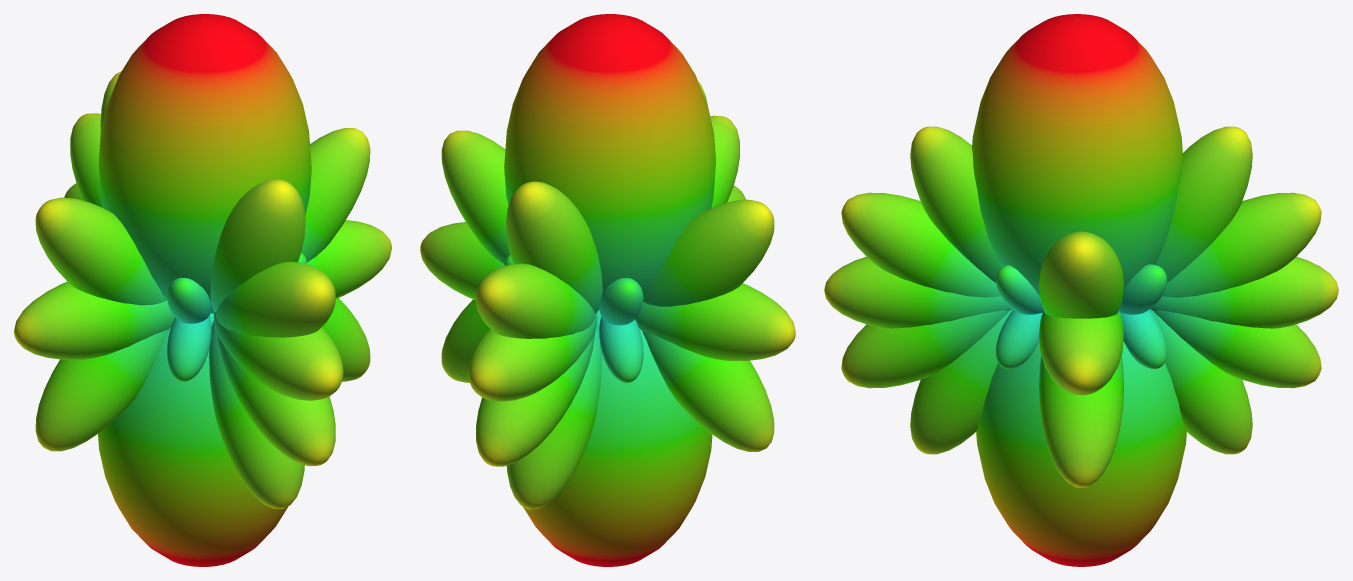
Rendered from radius_final.glb.
3 renders of one model, left to right at view 1: azimuth 30°, elevation 25°; view 2: azimuth 150°, elevation 25°; view 3: azimuth 270°, elevation 25°, orthographic.
Parts seen in each view (by area): view 1: 球体.002, 球体, 球体.016, 球体.009, 球体.013, 球体.011, 球体.010, 球体.012, 球体.008, 球体.007, 球体.015, 球体.014 (+4 smaller); view 2: 球体.002, 球体, 球体.016, 球体.009, 球体.013, 球体.001, 球体.003, 球体.004, 球体.005, 球体.015, 球体.006, 球体.014 (+4 smaller); view 3: 球体.002, 球体, 球体.003, 球体.010, 球体.001, 球体.011, 球体.006, 球体.007, 球体.017, 球体.004, 球体.012, 球体.005 (+7 smaller).
Boxes of the visible parts, bbox=[...] form: 球体.002: bbox=[98, 14, 311, 313]; 球体: bbox=[98, 313, 288, 566]; 球体.016: bbox=[35, 197, 166, 305]; 球体.009: bbox=[35, 329, 168, 451]; 球体.013: bbox=[14, 281, 175, 359]; 球体.011: bbox=[210, 179, 305, 312]; 球体.010: bbox=[216, 261, 335, 337]; 球体.012: bbox=[213, 312, 343, 400]; 球体.008: bbox=[209, 320, 304, 508]; 球体.007: bbox=[216, 332, 335, 466]; 球体.015: bbox=[301, 128, 370, 262]; 球体.014: bbox=[307, 220, 391, 298]; 球体.002: bbox=[504, 14, 715, 310]; 球体: bbox=[523, 310, 712, 566]; 球体.016: bbox=[643, 199, 774, 306]; 球体.009: bbox=[642, 331, 774, 451]; 球体.013: bbox=[635, 283, 795, 360]; 球体.001: bbox=[506, 181, 602, 313]; 球体.003: bbox=[476, 263, 594, 338]; 球体.004: bbox=[468, 313, 597, 401]; 球体.005: bbox=[506, 322, 601, 509]; 球体.015: bbox=[441, 130, 510, 263]; 球体.006: bbox=[476, 333, 594, 466]; 球体.014: bbox=[420, 222, 504, 300]; 球体.002: bbox=[972, 14, 1182, 295]; 球体: bbox=[976, 341, 1186, 566]; 球体.003: bbox=[1162, 192, 1321, 297]; 球体.010: bbox=[841, 192, 1000, 297]; 球体.001: bbox=[1155, 126, 1252, 282]; 球体.011: bbox=[910, 126, 1001, 282]; 球体.006: bbox=[1153, 310, 1321, 388]; 球体.007: bbox=[841, 310, 1009, 388]; 球体.017: bbox=[1039, 356, 1123, 487]; 球体.004: bbox=[1150, 257, 1338, 328]; 球体.012: bbox=[824, 257, 1012, 328]; 球体.005: bbox=[1149, 309, 1252, 454].
Bounding box in the file's own units: 4.03 × 5.6 × 4.83.
26 materials, 26 textured.
